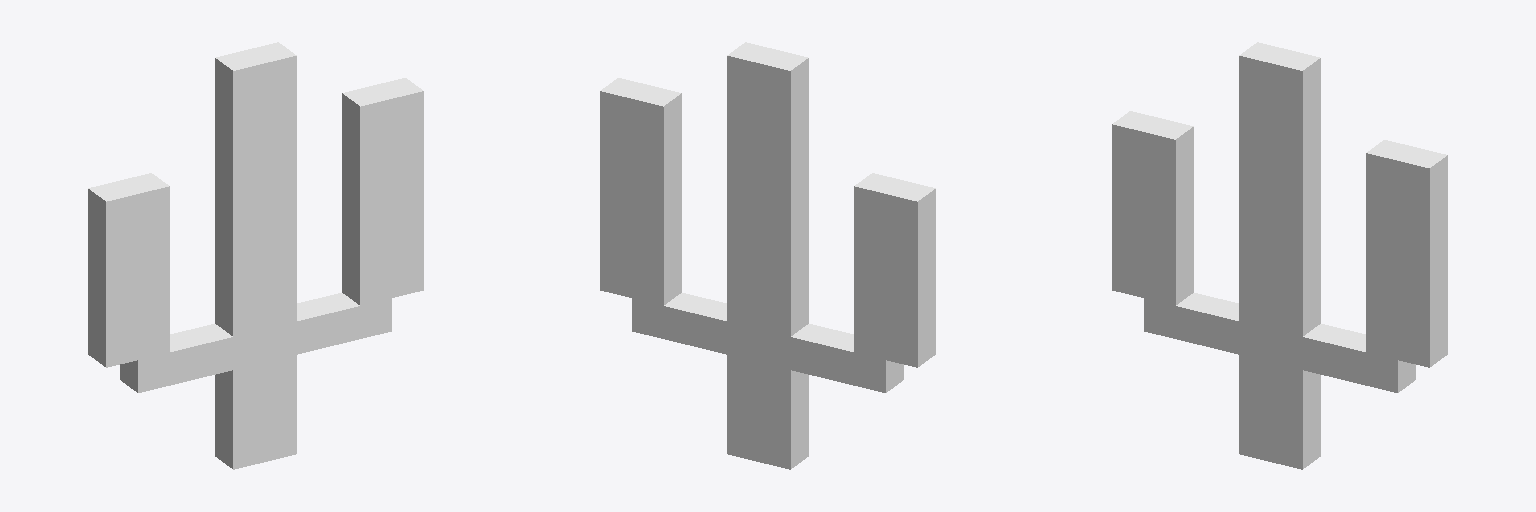
Rendered from cactus-small.obj.
The picture shows the model from 3 angles: view 1: azimuth 30°, elevation 25°; view 2: azimuth 150°, elevation 25°; view 3: azimuth 330°, elevation 25°; orthographic projection.
Bounding box in the file's own units: 10 × 12 × 1.